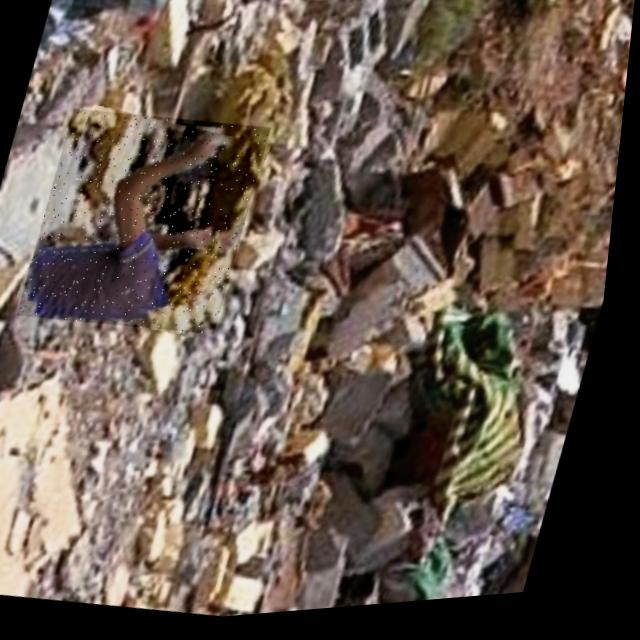Person in Rubble: (19, 97, 276, 351)
